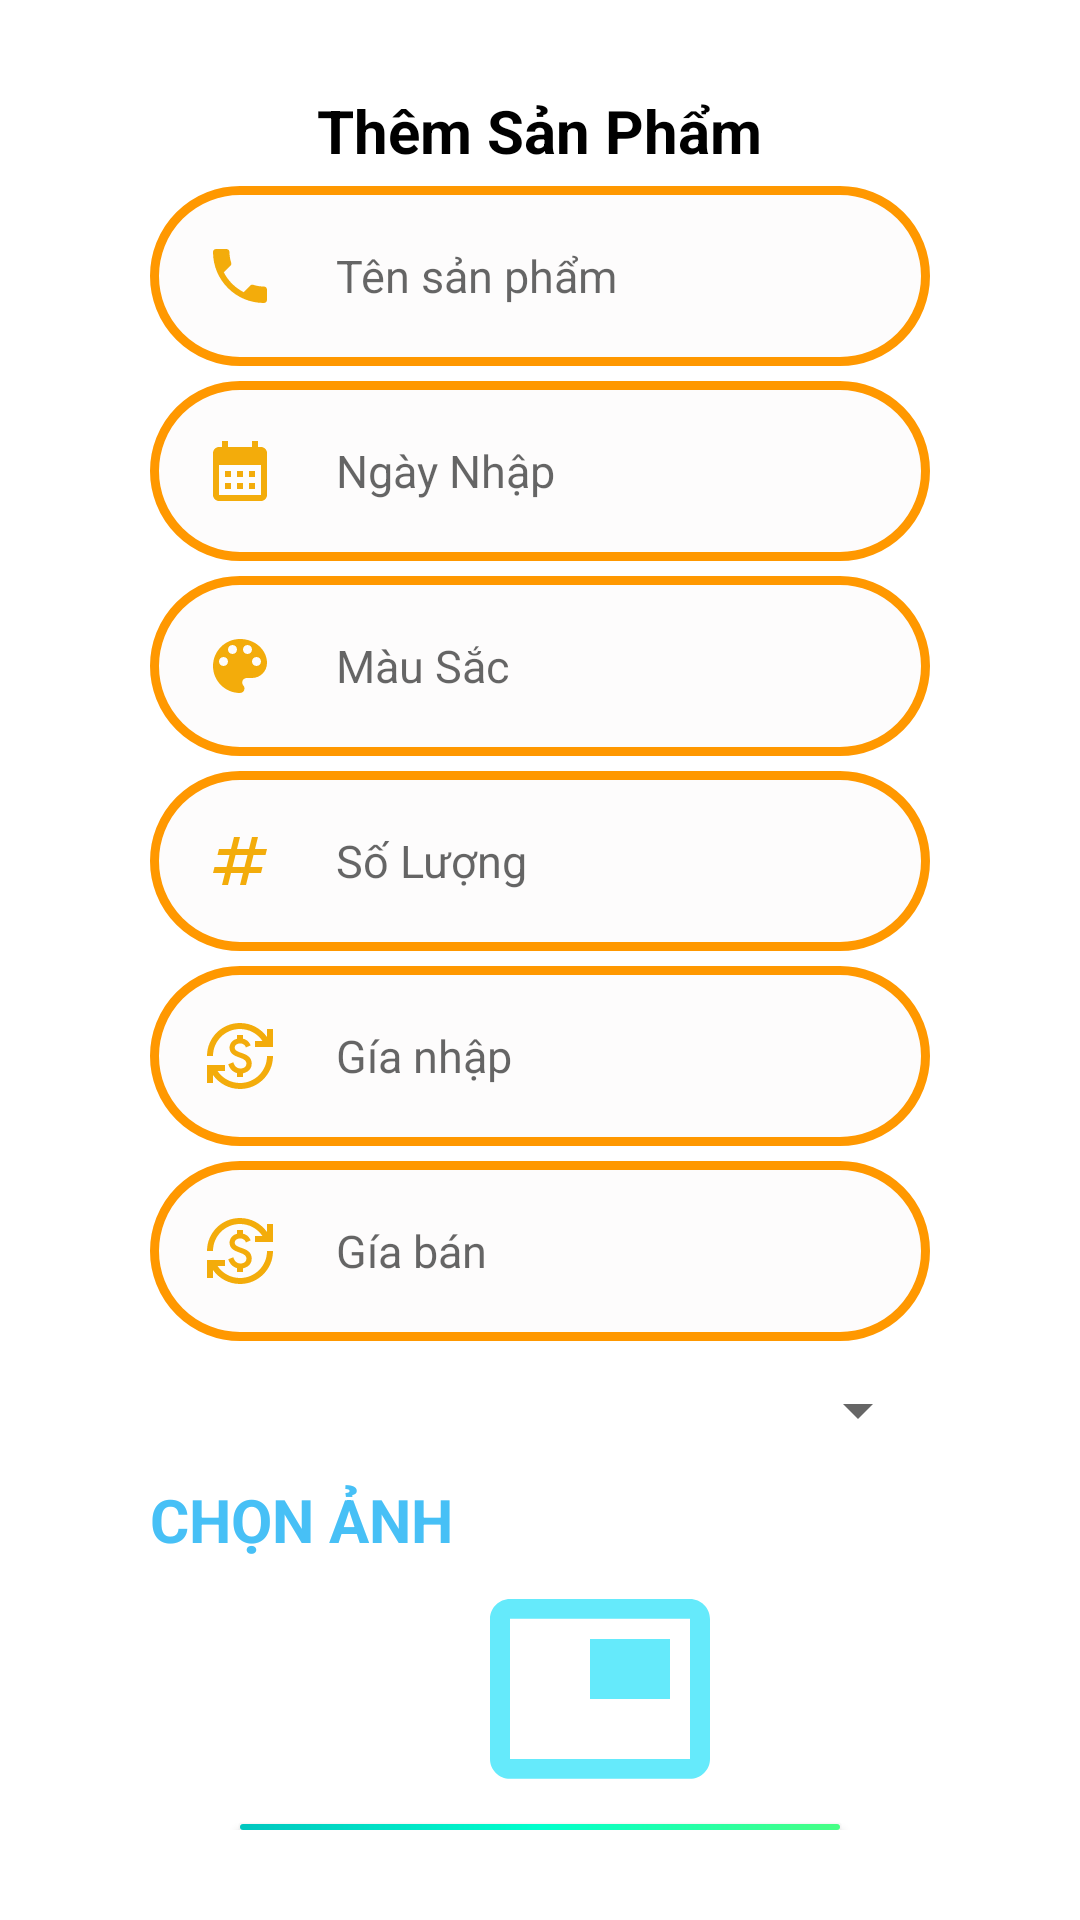

Where to tap for icons on this 1080px x 1920px app screen, as point (x, y):
picture in: point (600, 1689)
